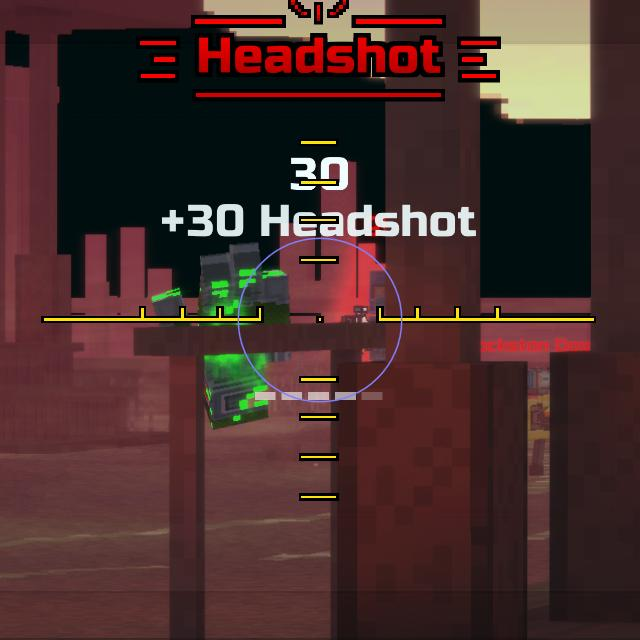Enemy: (365, 270, 385, 361)
